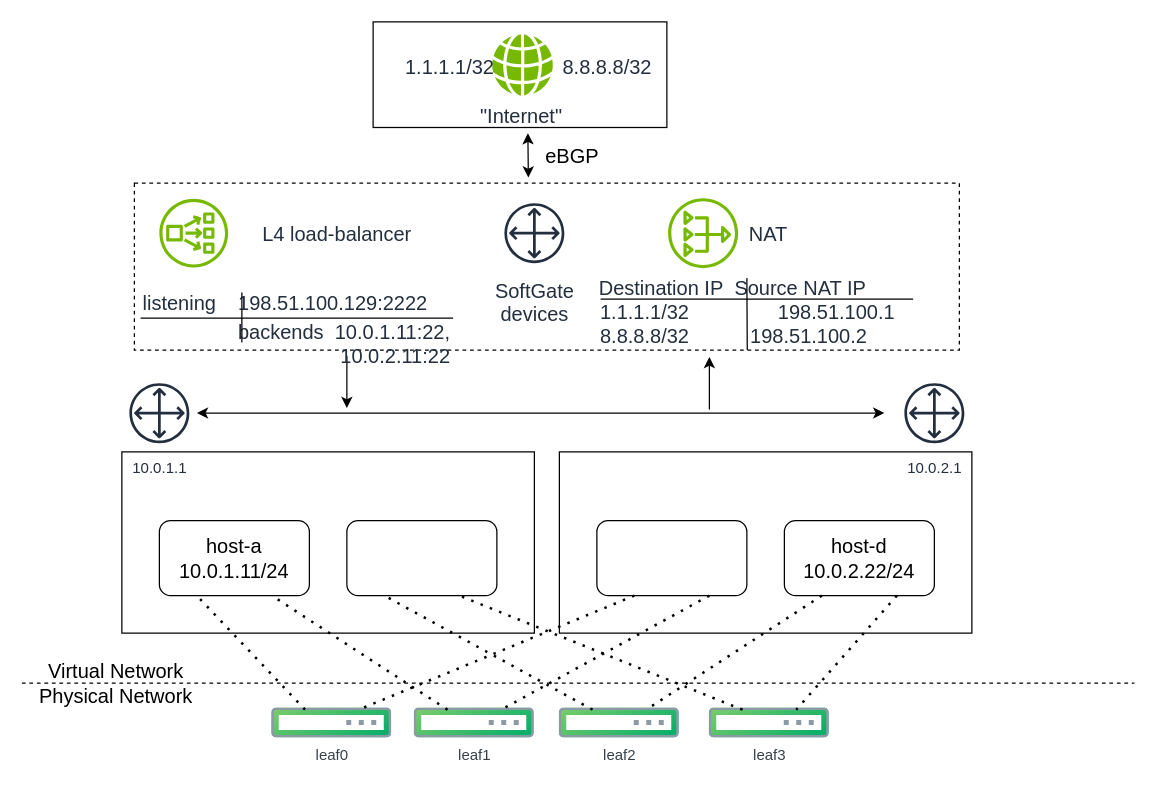
This 1158x786 diagram has some shape labels left out. Each missing label, with the box of its shape:
host-b 10.0.2.11/24: (596, 519, 747, 596)
host-c 10.0.1.22/24: (346, 519, 497, 596)
subnet 10.0.1.0/24: (121, 451, 534, 633)
subnet 10.0.2.0/24: (558, 451, 972, 633)
